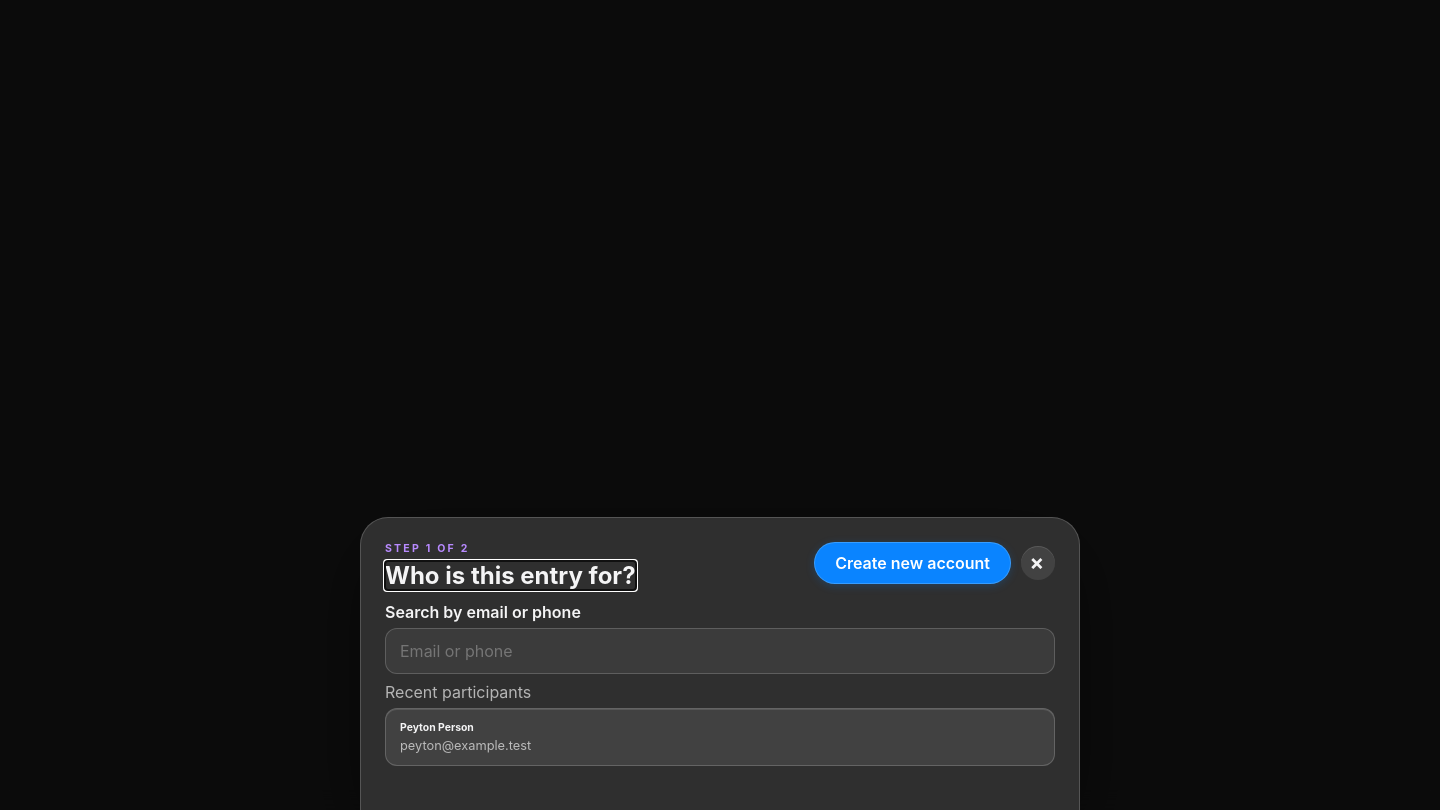
add entry modal › validates title and preserves owner after save failure
Click the option "Peyton Person peyton@example.test" at (437, 728), box [385,708,1055,766]
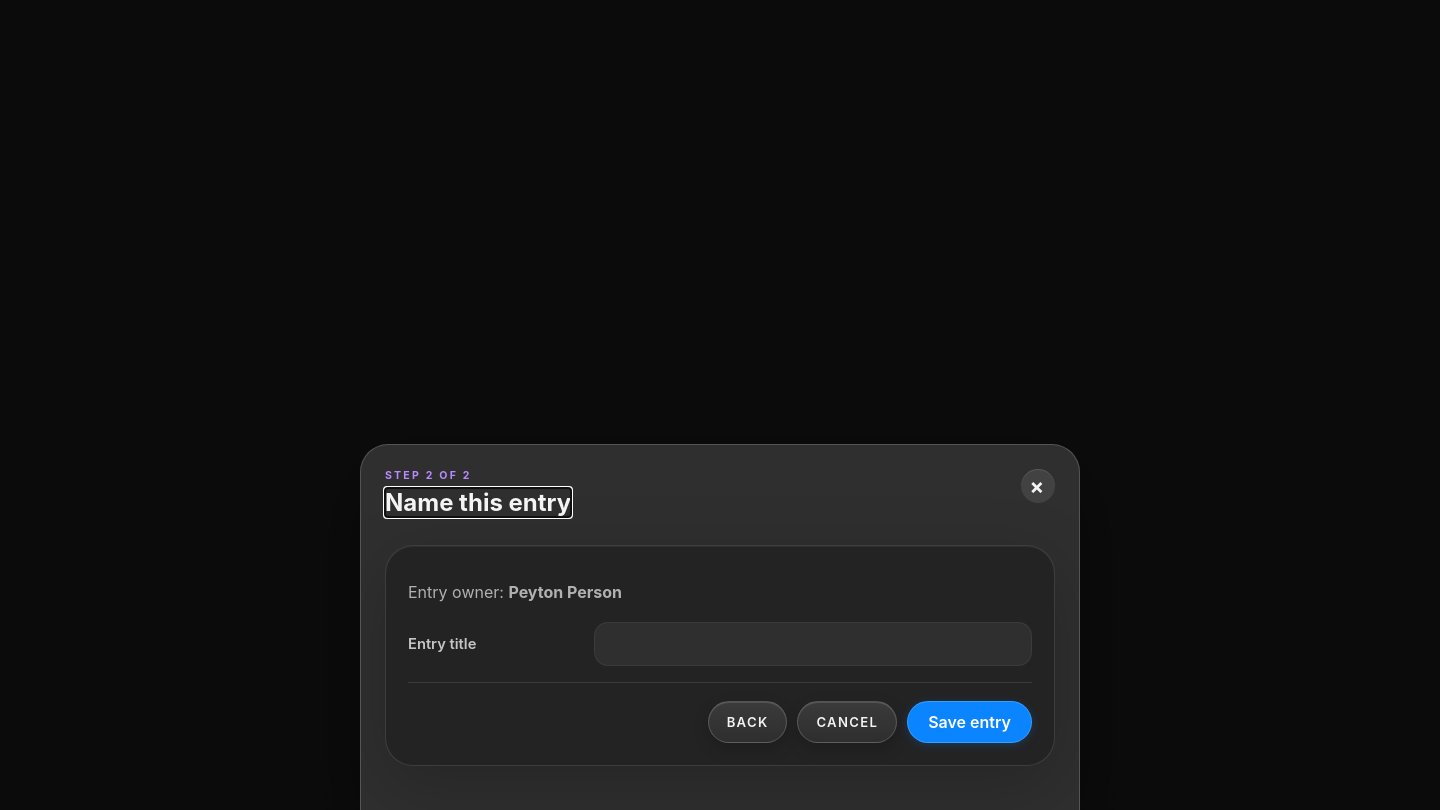
Click the button "Save entry" at (970, 722), box [907,701,1032,743]
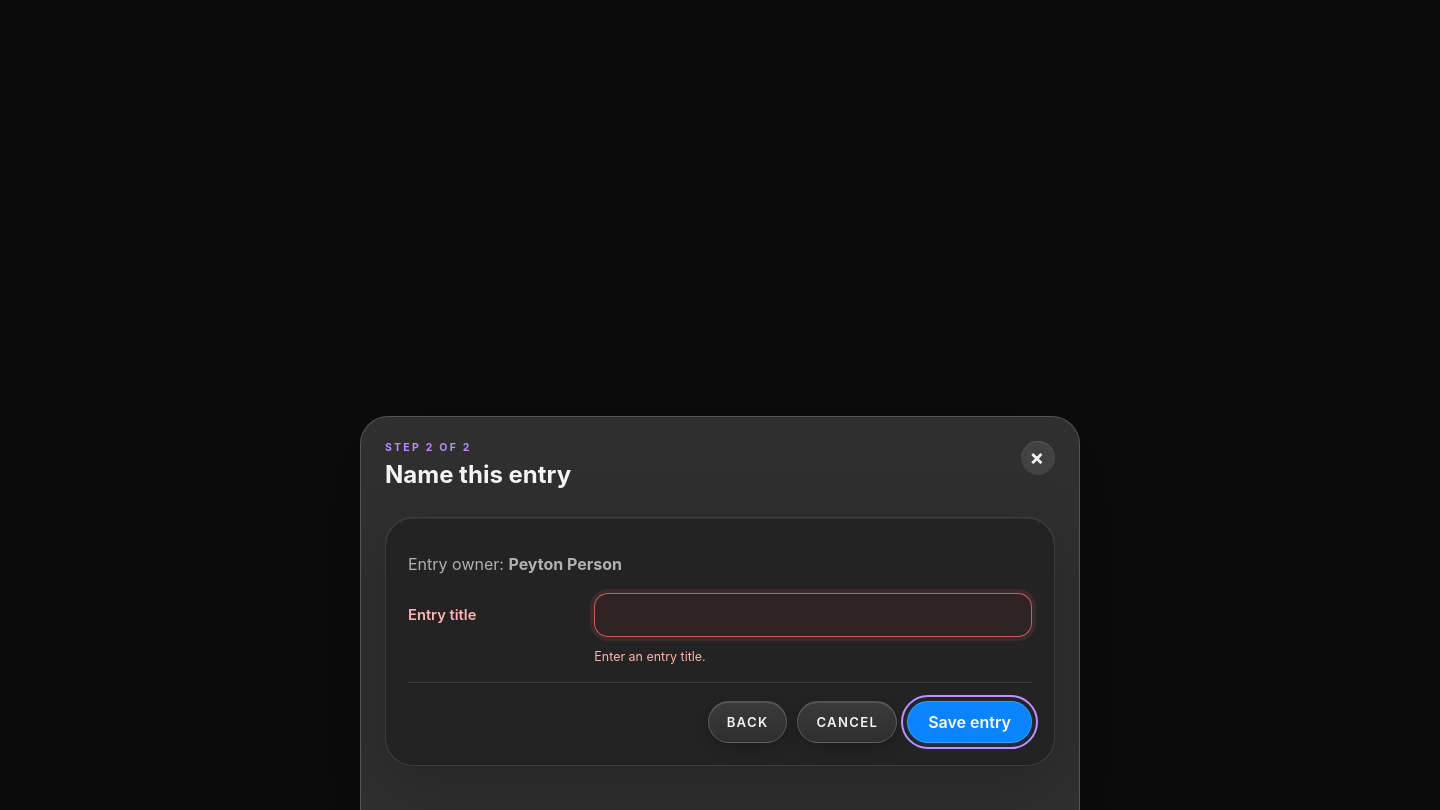
Now the text "Enter an entry title." is shown, box [594,649,706,664]
Type "Cake" into the field labelled "Entry title" at (813, 615), box [594,593,1032,637]
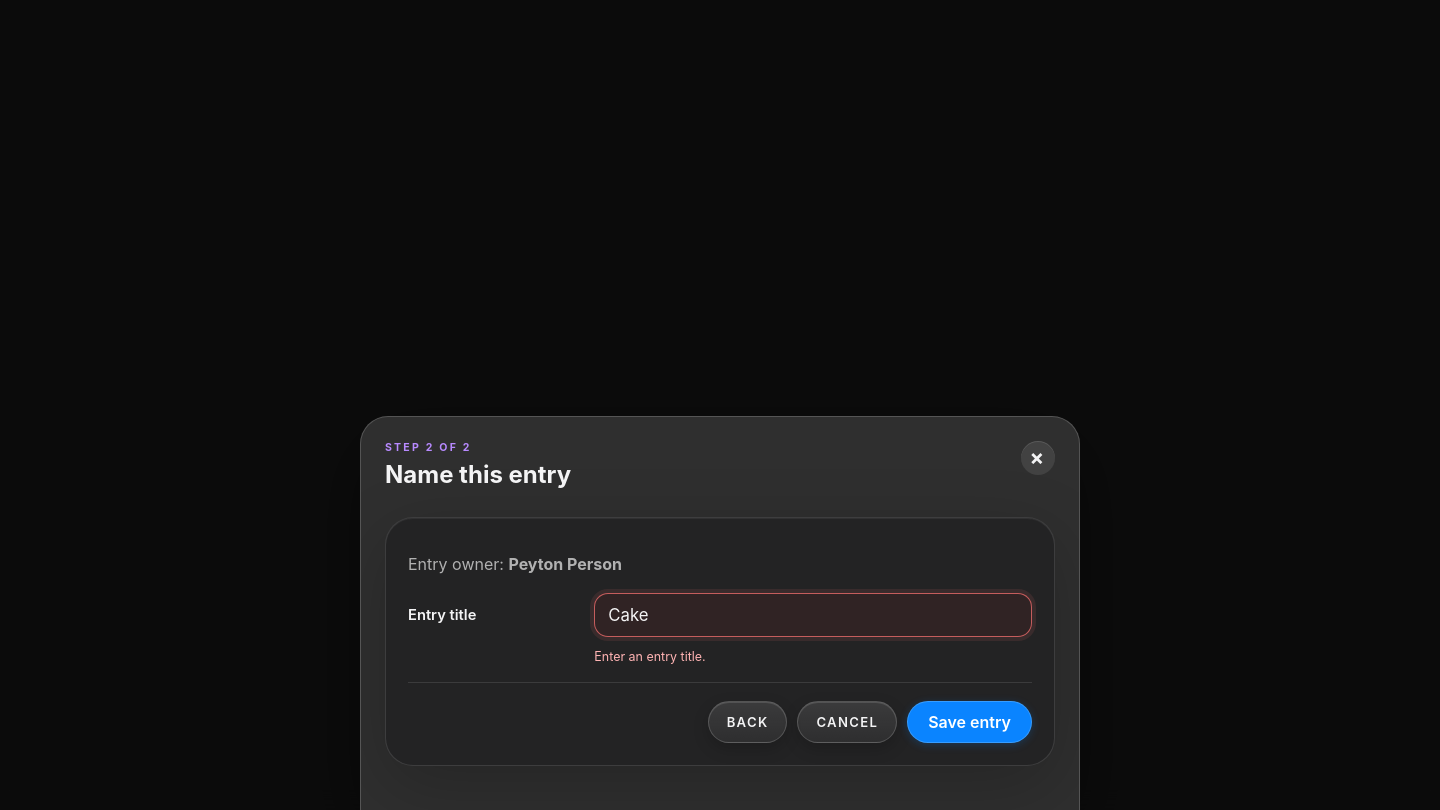
Click the button "Save entry" at (970, 722), box [907,701,1032,743]
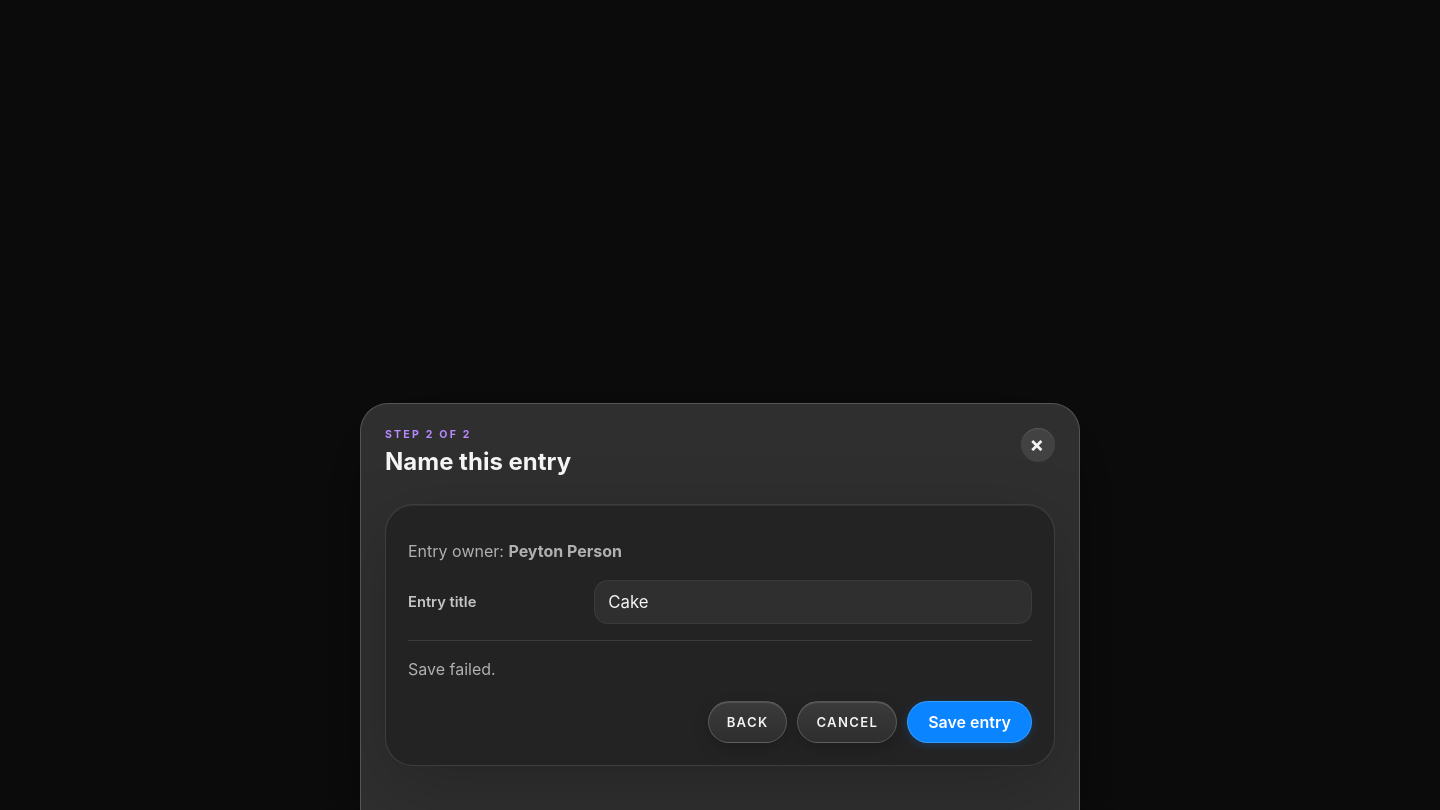
Now the text "Entry owner: Peyton Person" is shown, box [408,541,622,561]
Now the message reads "Save failed.", box [408,659,496,679]
